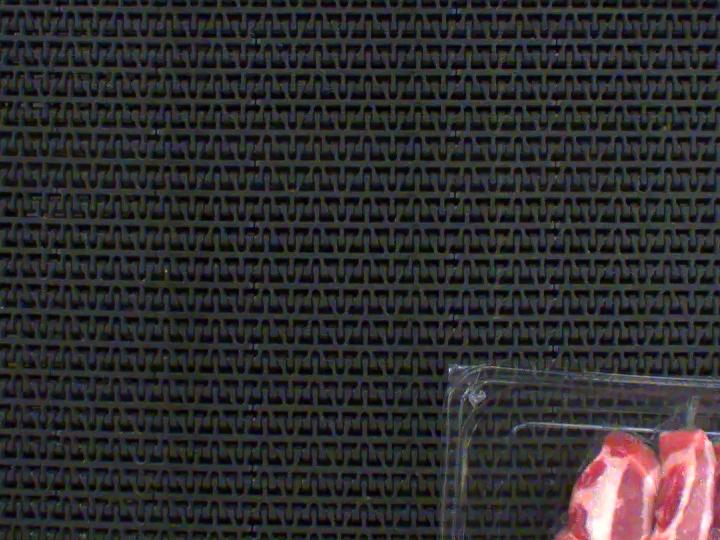unsealed: (588, 388, 720, 474)
